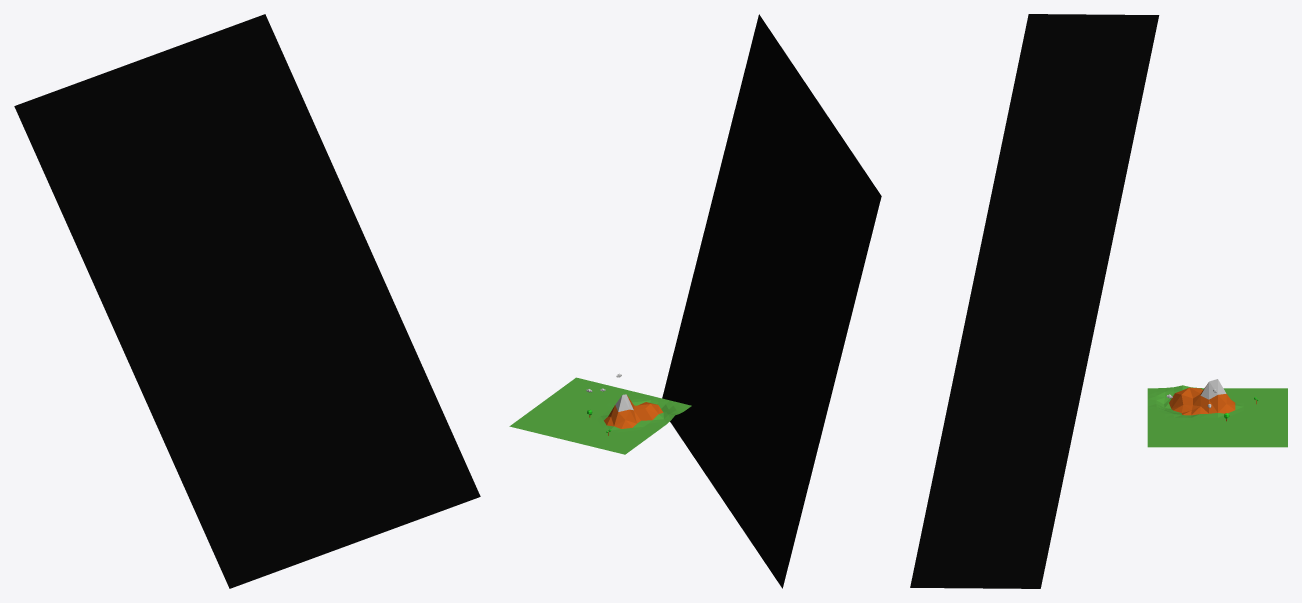
Rendered from mountain.obj.
The picture shows the model from 3 angles, left to right: view 1: azimuth 30°, elevation 25°; view 2: azimuth 150°, elevation 25°; view 3: azimuth 270°, elevation 25°; orthographic projection. The views are drawn at different scales.
Parts seen in each view (by area): view 1: Plane.002; view 2: Plane.002, Plane; view 3: Plane.002, Plane.
Boxes of the visible parts, left/top/right/bottom form: Plane.002: left=14, top=14, right=480, bottom=588; Plane.002: left=662, top=14, right=881, bottom=588; Plane: left=509, top=377, right=691, bottom=454; Plane.002: left=910, top=14, right=1159, bottom=588; Plane: left=1147, top=379, right=1287, bottom=447.
Bounding box in the file's own units: 34.6 × 54.7 × 31.75.
